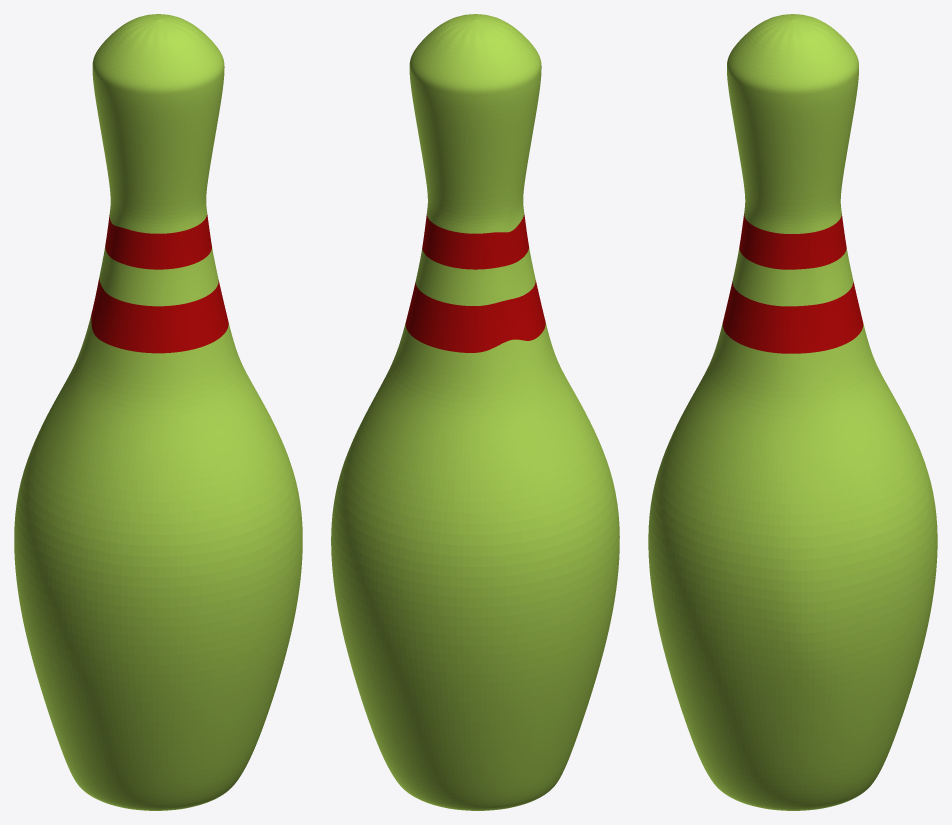
The model's file is BowlingPin.fbx.
3 views of the same model, side by side, from view 1: azimuth 30°, elevation 25°; view 2: azimuth 150°, elevation 25°; view 3: azimuth 270°, elevation 25° (orthographic).
Visible parts, largest first — view 1: Cylinder.001; view 2: Cylinder.001; view 3: Cylinder.001.
Boxes of the visible parts, <box> form: Cylinder.001: <box>14,14,302,810</box>; Cylinder.001: <box>331,14,619,810</box>; Cylinder.001: <box>648,14,937,810</box>.
Bounding box in the file's own units: 98.33 × 97.49 × 284.
